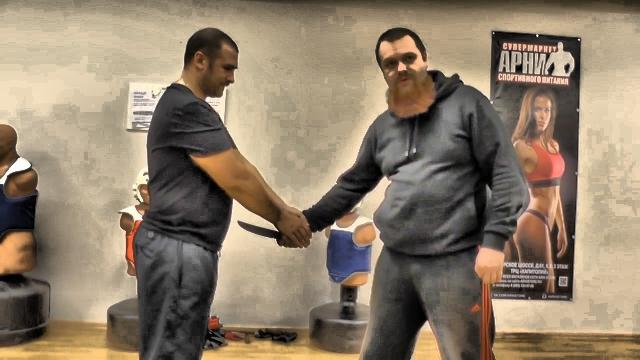knife: (235, 218, 312, 250)
